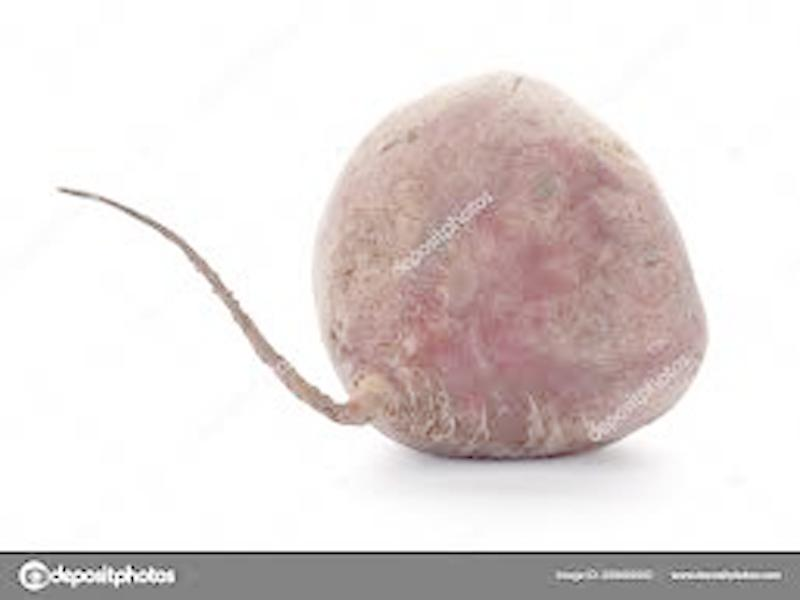Beet: (59, 77, 707, 459)
